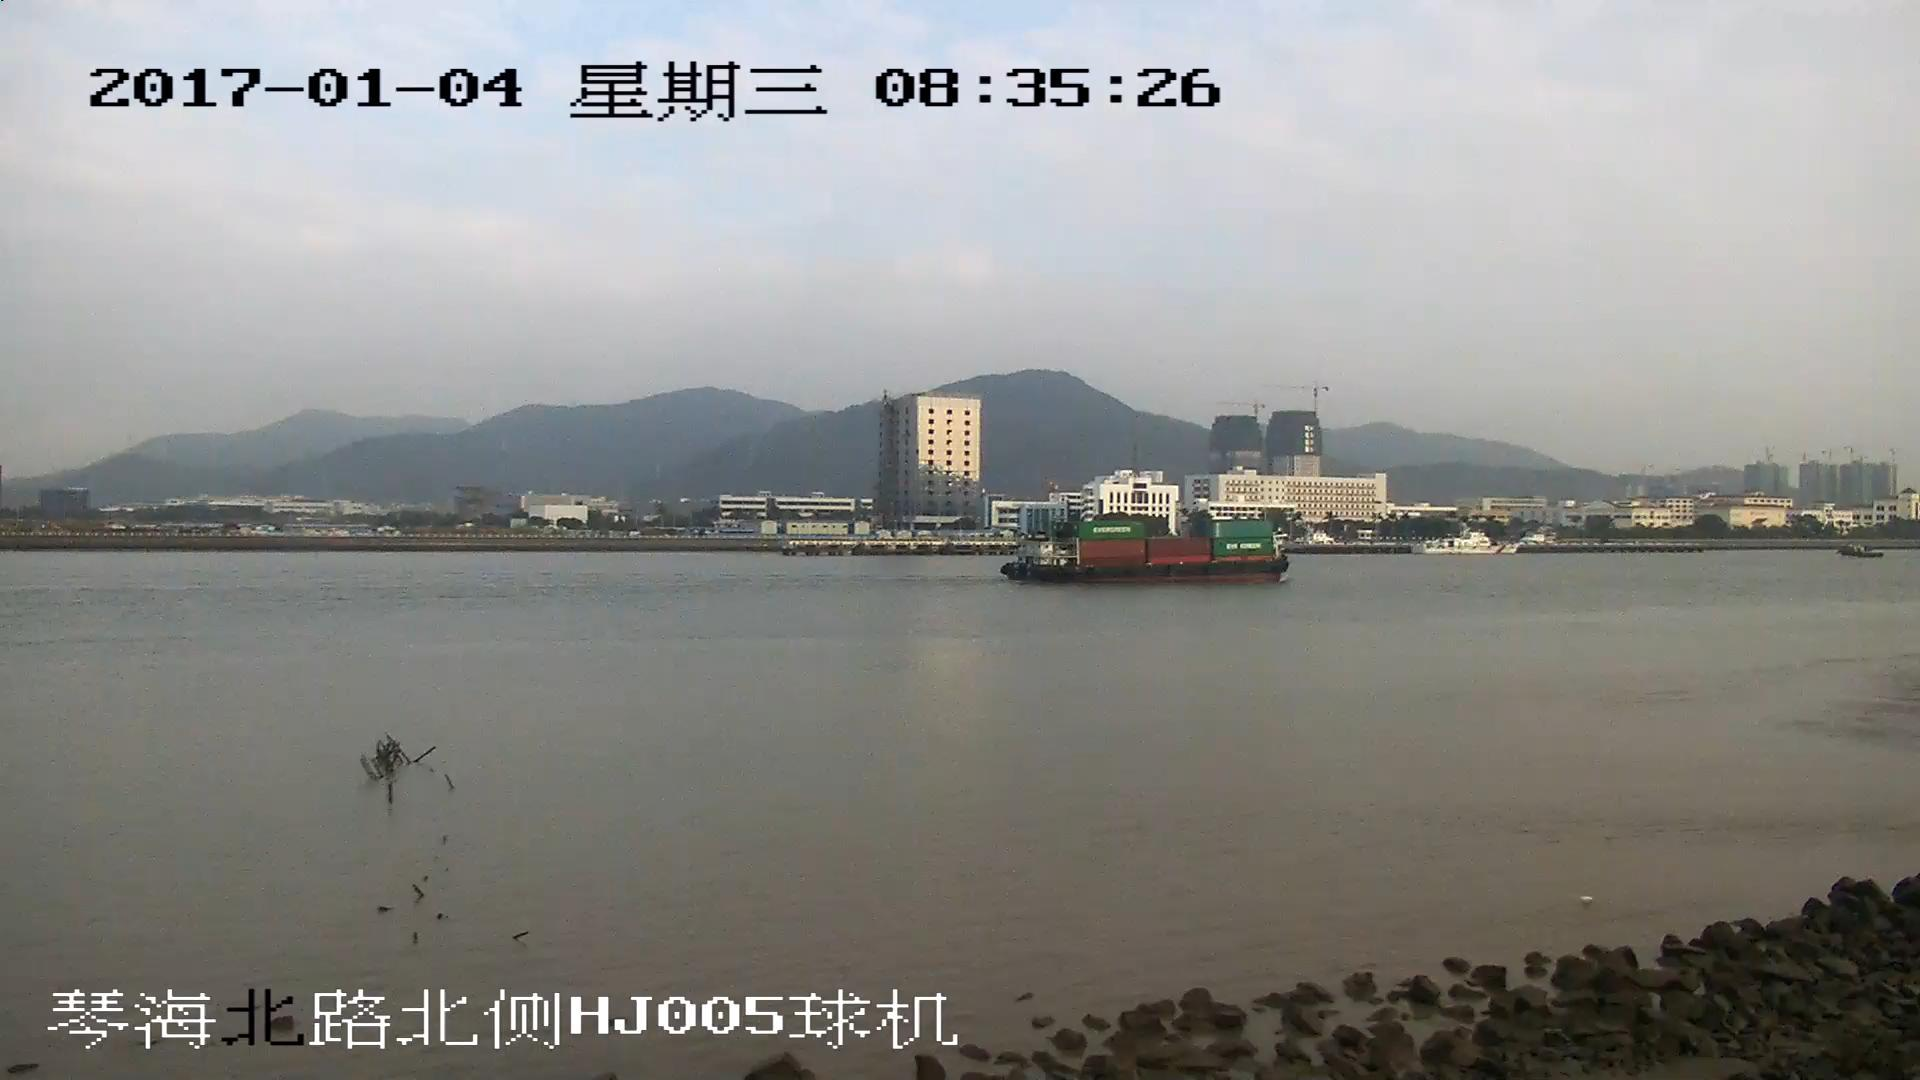Ship: (1004, 520, 1288, 583)
